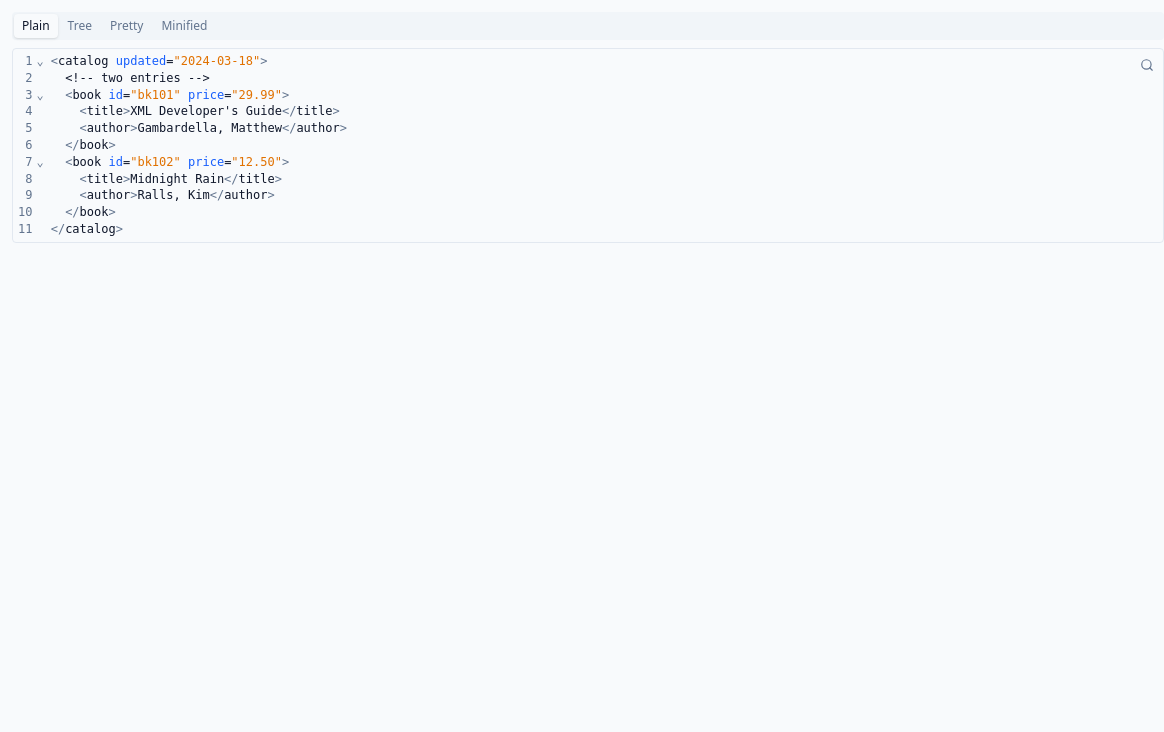
Test: XmlFormatterWidget › renders the sample XML as a tree once switched to Tree view
Click the button "Tree" at (80, 26), box x1=60 y1=14 x2=100 y2=38
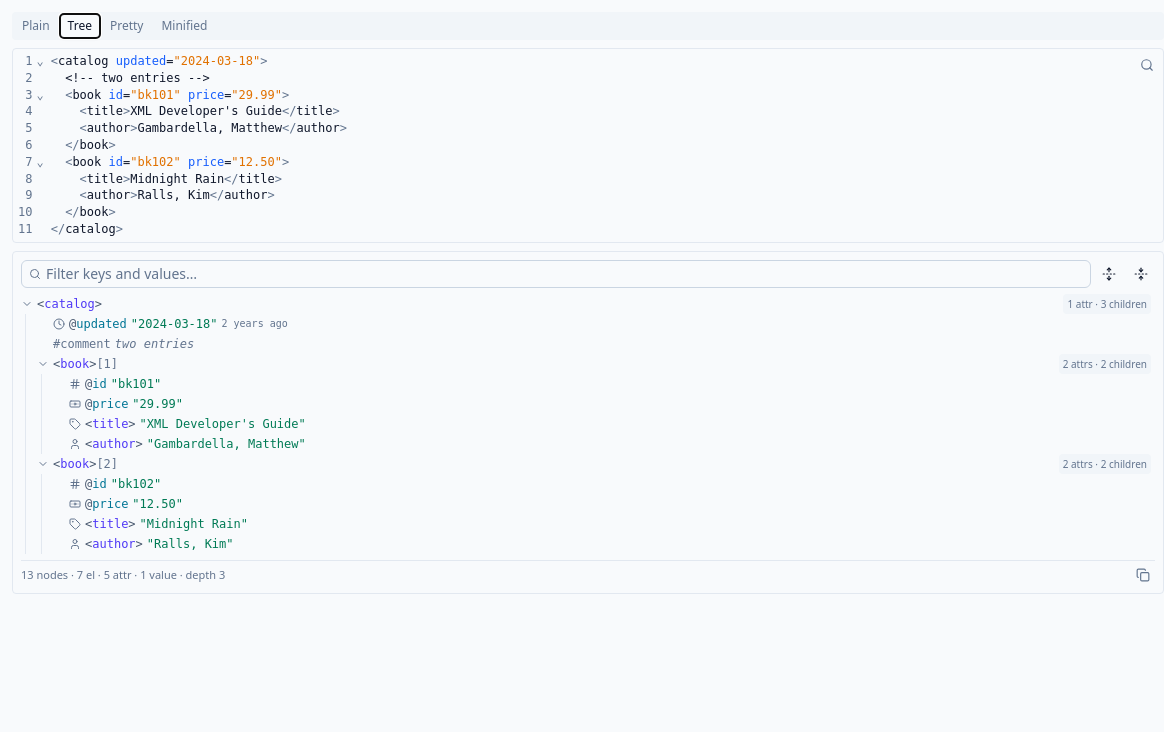
Now the text "catalog" is shown, box x1=44 y1=297 x2=95 y2=311
Now the 1st text "id" is shown, box x1=92 y1=377 x2=107 y2=391
Now the text "\"bk101\"" is shown, box x1=111 y1=374 x2=161 y2=394
